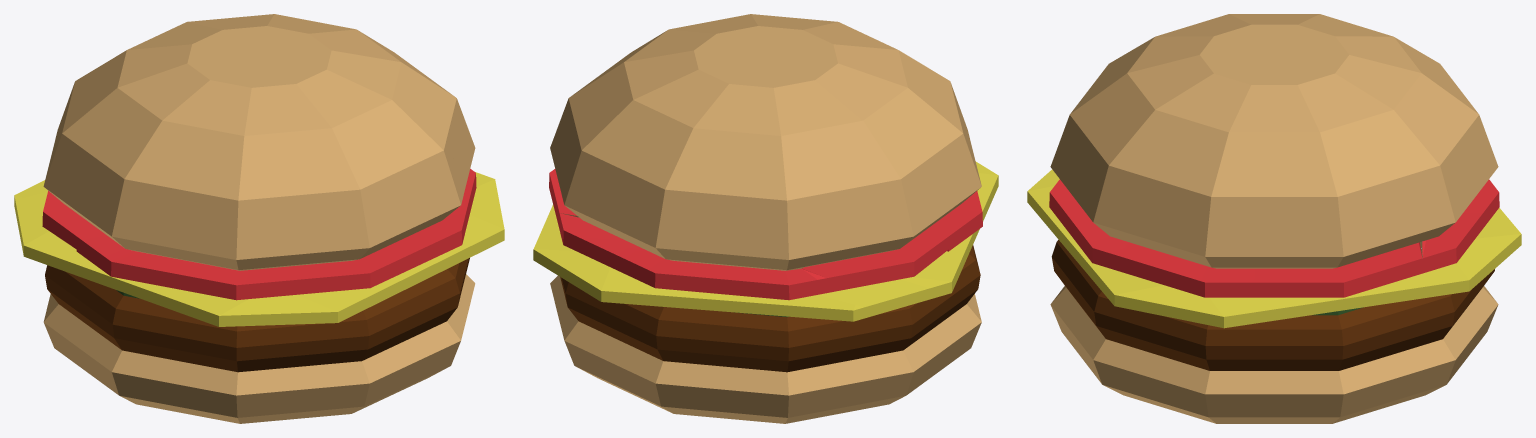
The model's file is Burger.fbx.
3 views of the same model, side by side, from view 1: azimuth 30°, elevation 25°; view 2: azimuth 150°, elevation 25°; view 3: azimuth 270°, elevation 25° (orthographic).
Parts seen in each view (by area): view 1: Burger.001, Burger.002, Burger.004, Burger.003, Burger.005, Burger; view 2: Burger, Burger.005, Burger.003, Burger.004, Burger.002, Burger.001; view 3: Burger.003, Burger.004, Burger.002, Burger.005, Burger, Burger.001.
Part boxes in pixels (x1=…): Burger.001: x1=182, y1=128, x2=504, y2=423; Burger.002: x1=117, y1=77, x2=503, y2=423; Burger.004: x1=64, y1=42, x2=496, y2=407; Burger.003: x1=21, y1=23, x2=423, y2=371; Burger.005: x1=15, y1=14, x2=322, y2=318; Burger: x1=14, y1=69, x2=94, y2=209; Burger: x1=533, y1=128, x2=863, y2=423; Burger.005: x1=542, y1=77, x2=929, y2=423; Burger.003: x1=549, y1=42, x2=961, y2=407; Burger.004: x1=602, y1=23, x2=982, y2=371; Burger.002: x1=702, y1=14, x2=989, y2=318; Burger.001: x1=931, y1=70, x2=998, y2=205; Burger.003: x1=1274, y1=14, x2=1349, y2=423; Burger.004: x1=1199, y1=14, x2=1274, y2=423; Burger.002: x1=1125, y1=23, x2=1205, y2=418; Burger.005: x1=1344, y1=23, x2=1423, y2=418; Burger: x1=1420, y1=53, x2=1521, y2=395; Burger.001: x1=1027, y1=53, x2=1135, y2=395.
Size of the model in its own units: 189 by 130 by 189.
